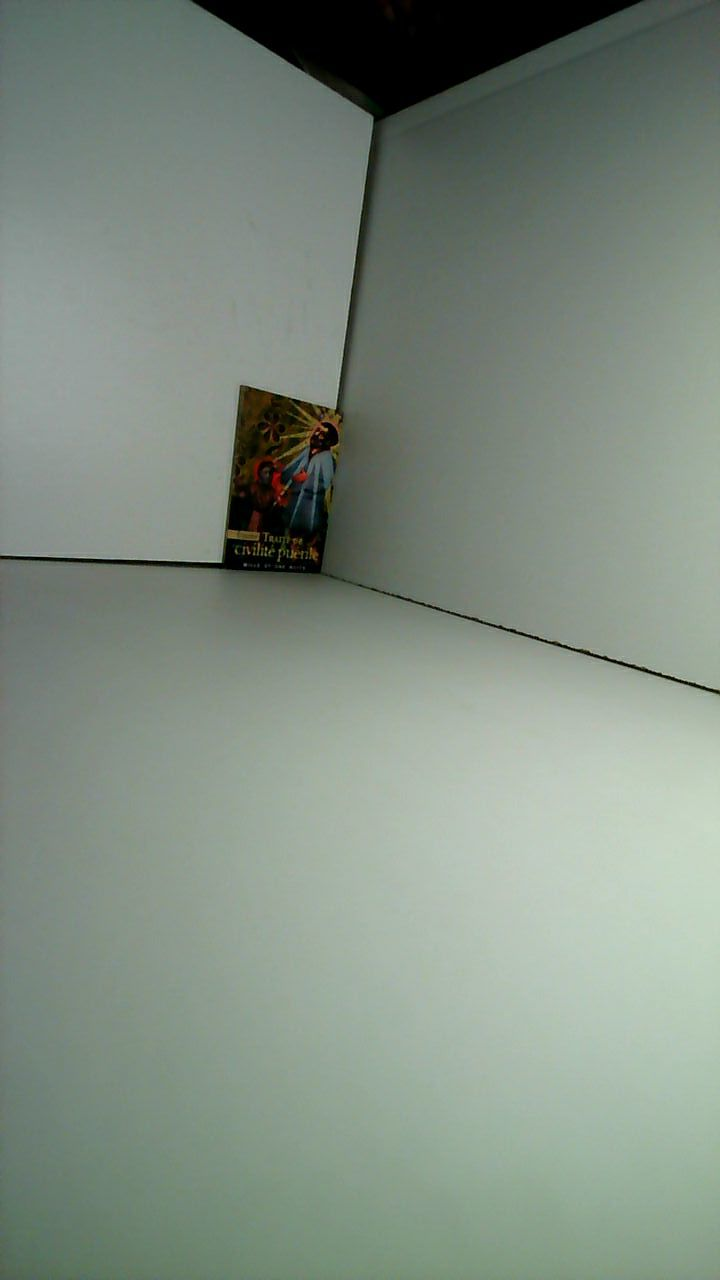book: (203, 366, 362, 603)
